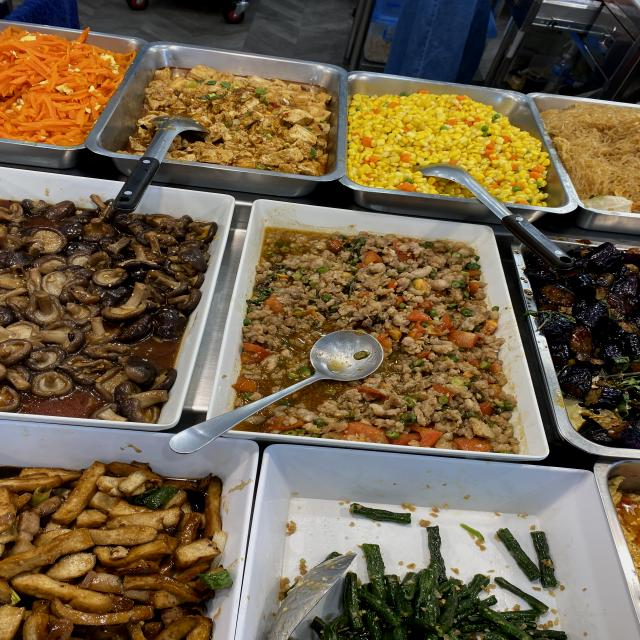Mapo Tofu: (212, 89, 322, 160)
Scrambled eggs with carrots: (3, 53, 100, 105)
